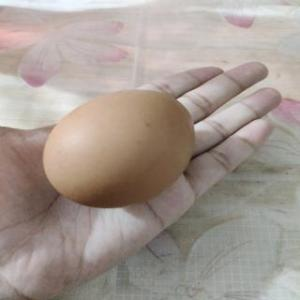egg: (42, 86, 198, 208)
